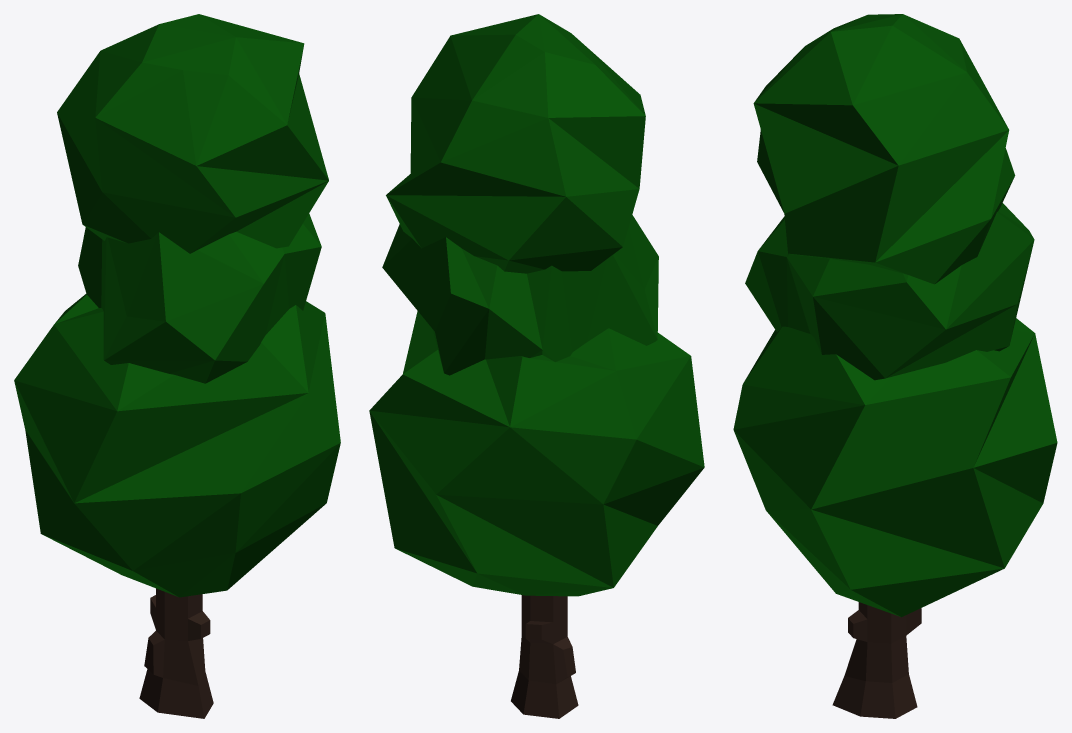
The model's file is Tree13.fbx.
3 renders of one model, left to right at view 1: azimuth 30°, elevation 25°; view 2: azimuth 150°, elevation 25°; view 3: azimuth 270°, elevation 25°, orthographic. The views are drawn at different scales.
Visible parts, largest first — view 1: Tree07; view 2: Tree07; view 3: Tree07.
Part boxes in pixels (<box>): Tree07: <box>14,14,340,718</box>; Tree07: <box>369,14,704,718</box>; Tree07: <box>733,14,1057,718</box>.
Size of the model in its own units: 0.6787 by 1.6 by 0.6816.
